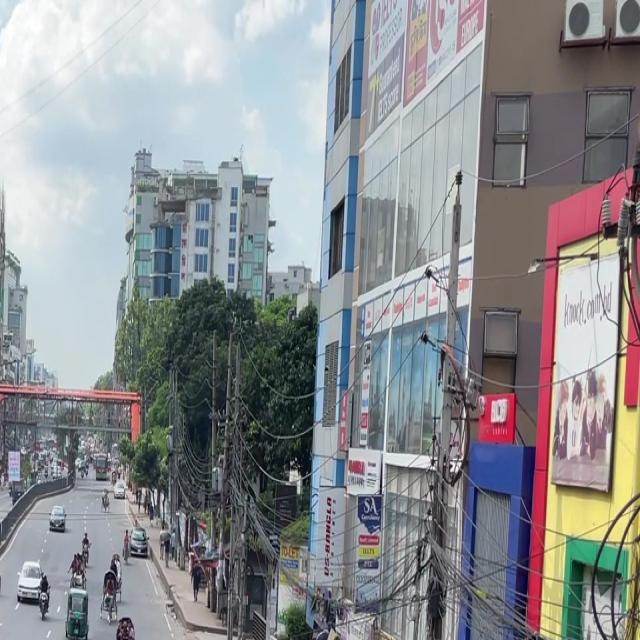car: (13, 552, 44, 612), (99, 565, 122, 624), (44, 505, 70, 535)
rickshaw: (61, 586, 92, 640)
